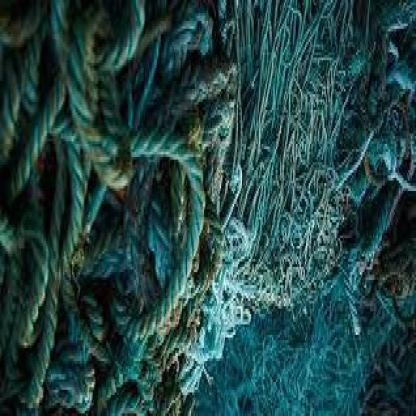net: (1, 2, 373, 414)
